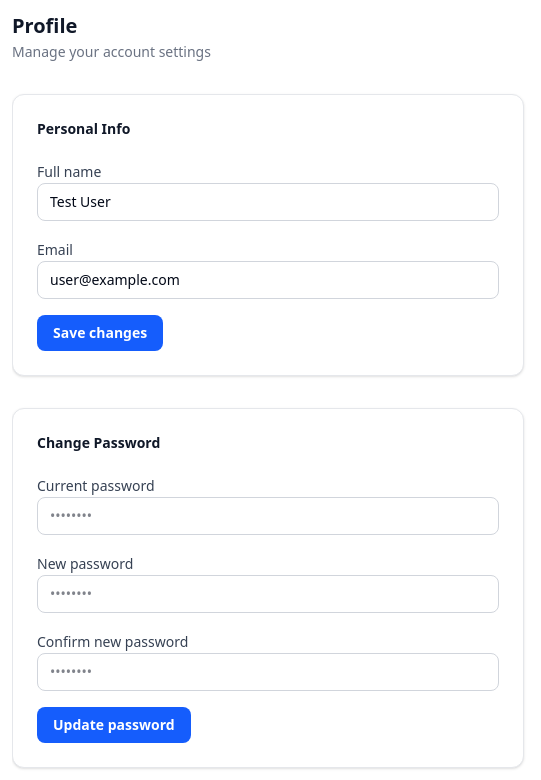
Test: Profile › changes the password and shows a success message
In the password field with placeholder "••••••••" below "Current password": (268, 516) [37,497,499,535], type "oldpassword123"
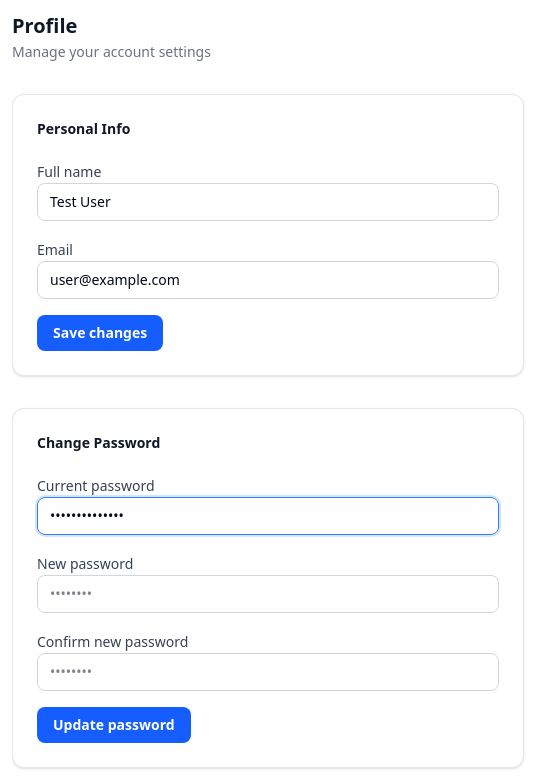
In the 1st password field with placeholder "••••••••": (268, 594) [37,575,499,613], type "newpassword123"
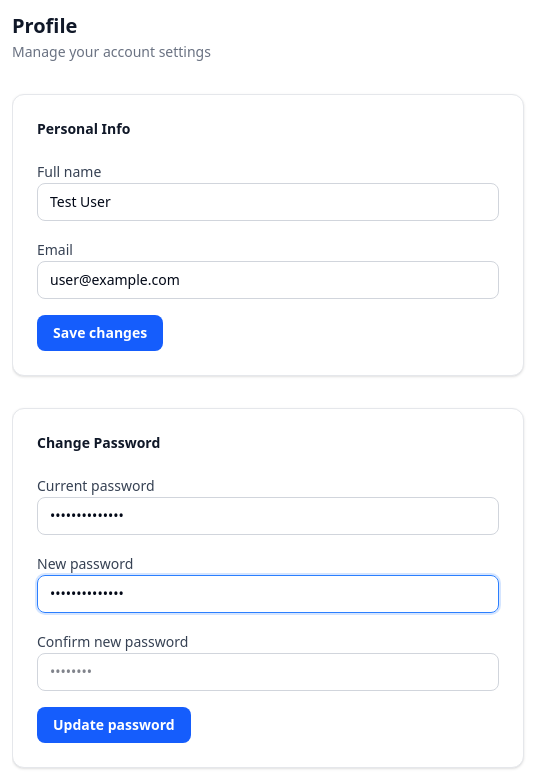
In the password field with placeholder "••••••••": (268, 672) [37,653,499,691], type "newpassword123"
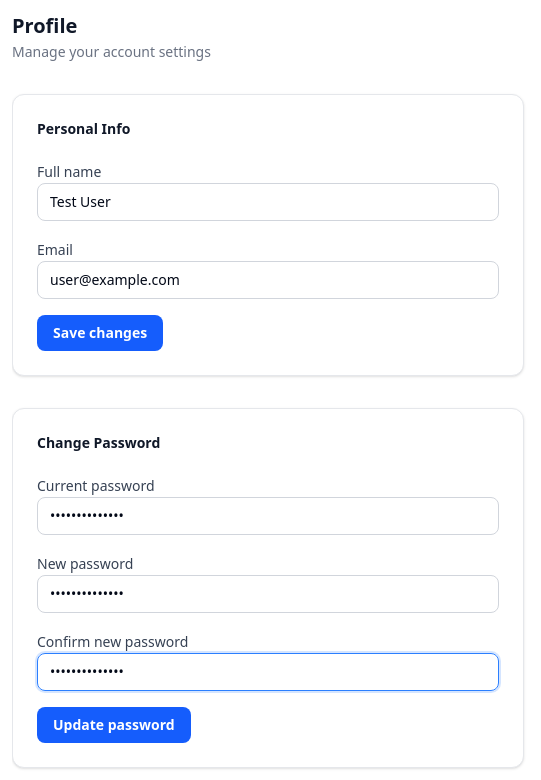
Click the button "Update password": (114, 725) [37,707,191,743]
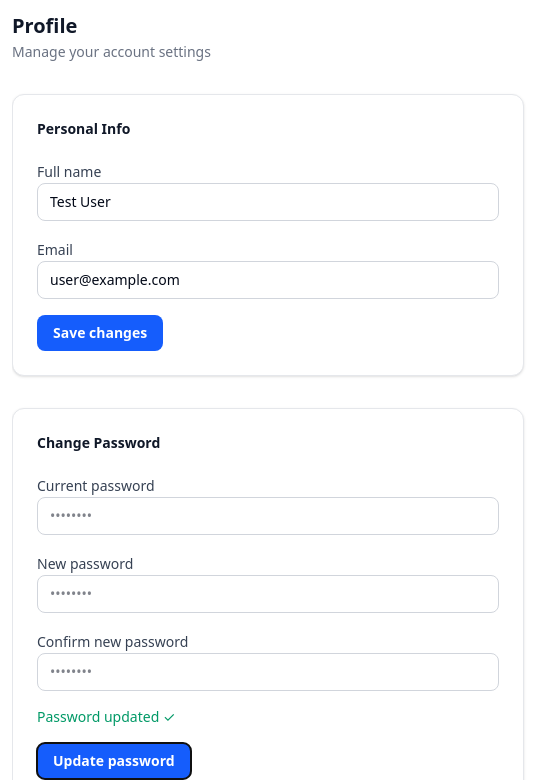
Expected: the text "Password updated ✓" is shown, [37,707,175,726]
